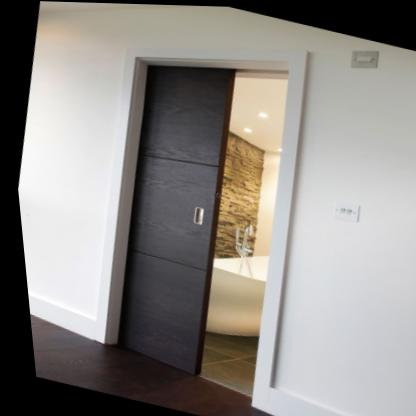Wooden floor: (24, 315, 265, 416)
